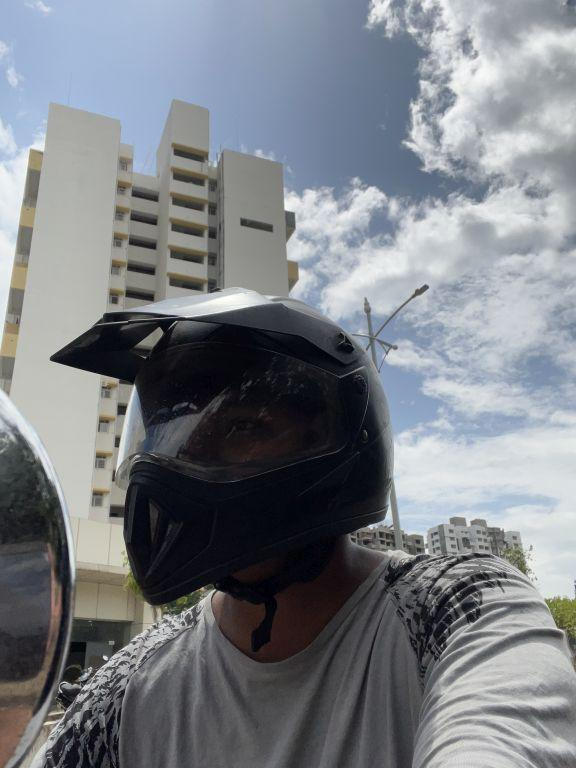helmet: (47, 277, 409, 613)
